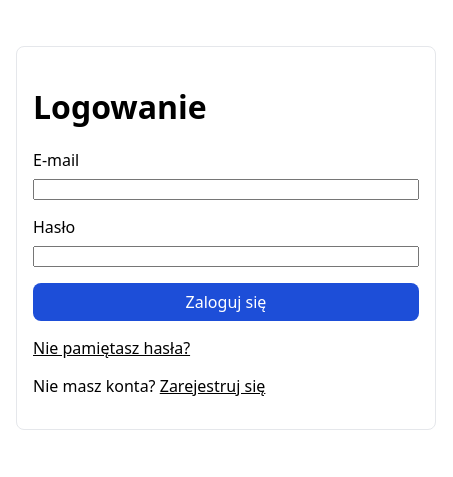
it: auth pages › validates login fields before submission
Click the button "Zaloguj się" at [226, 302], box [33,283,419,321]
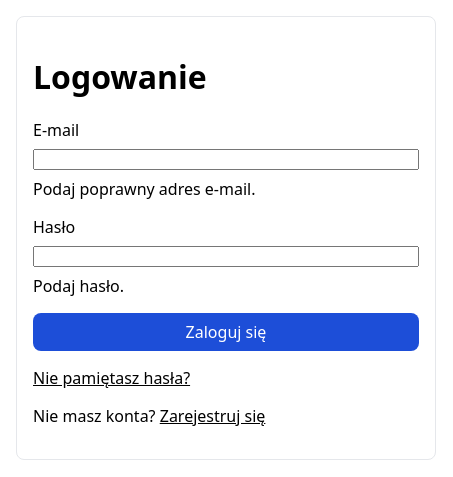
Expected: the text "Podaj poprawny adres e-mail." is shown, [33,178,256,200]
Expected: the text "Podaj hasło." is shown, [33,275,124,297]
